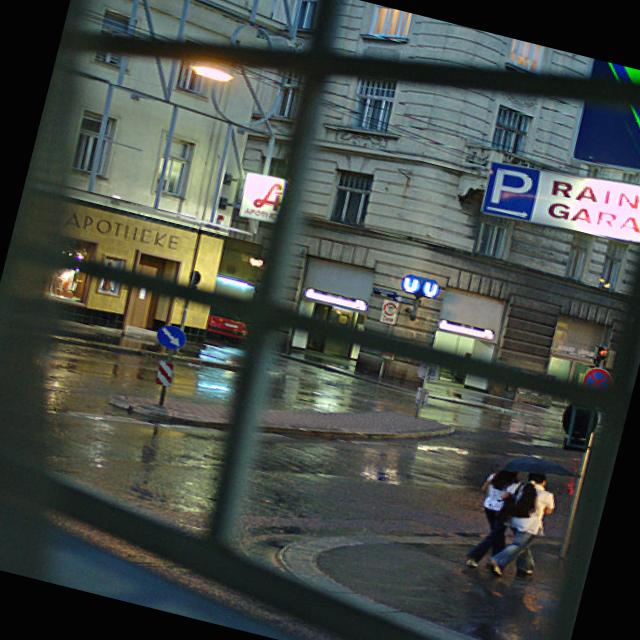Vehicle: (202, 304, 254, 346)
